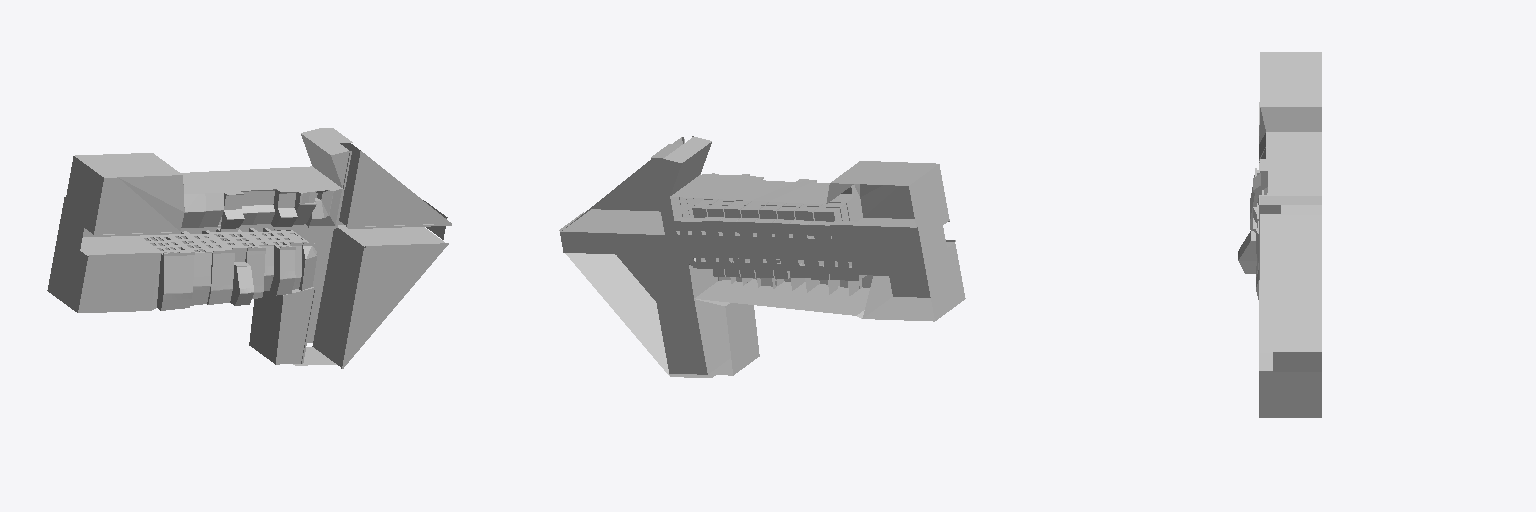
File: IBPSA_street.obj
The picture shows the model from 3 angles: view 1: azimuth 30°, elevation 25°; view 2: azimuth 150°, elevation 25°; view 3: azimuth 270°, elevation 25°; orthographic projection.
Parts seen in each view (by area): view 1: foo; view 2: foo; view 3: foo.
Boxes of the visible parts, x1,y1,x2,y2 form: foo: [47, 128, 451, 368]; foo: [559, 136, 965, 377]; foo: [1238, 52, 1321, 417].
Size of the model in its own units: 106 by 67.45 by 20.4.